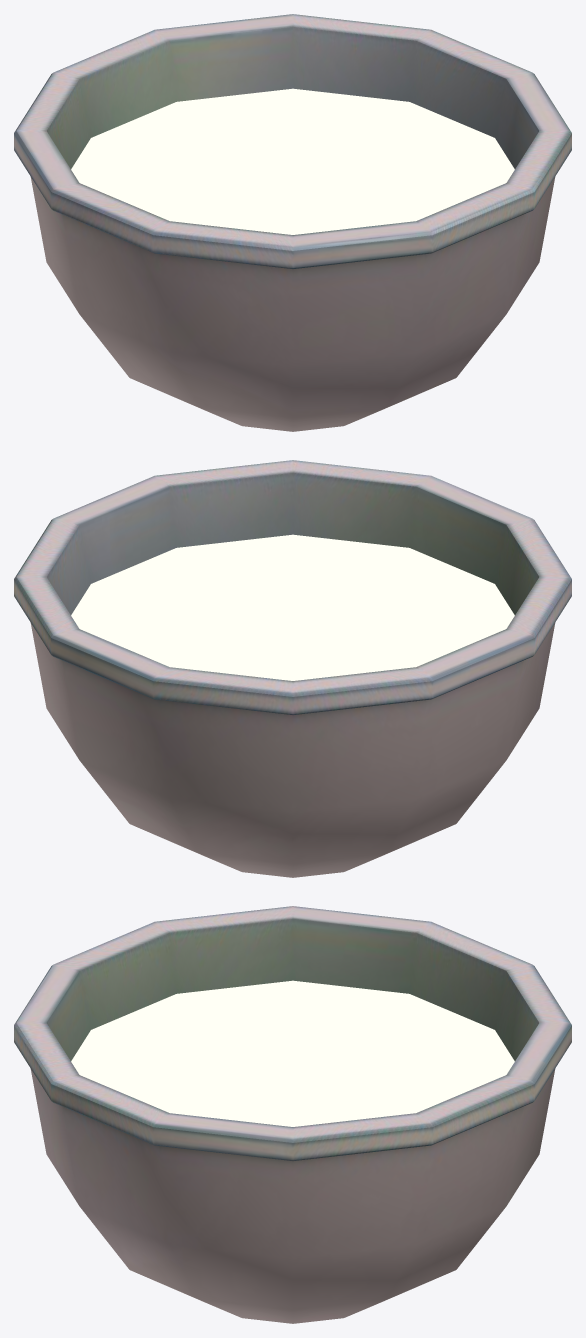
Rendered from mixingBowlFolded.glb.
3 views of the same model, one above another, from view 1: azimuth 30°, elevation 25°; view 2: azimuth 150°, elevation 25°; view 3: azimuth 270°, elevation 25° (orthographic).
Parts seen in each view (by area): view 1: MixingBowl, Cylinder; view 2: MixingBowl, Cylinder; view 3: MixingBowl, Cylinder.
Part boxes in pixels (box(x1,y1,x2,y2)): MixingBowl: box(14, 14, 571, 431); Cylinder: box(71, 88, 514, 234); MixingBowl: box(14, 460, 571, 877); Cylinder: box(71, 534, 514, 680); MixingBowl: box(14, 906, 571, 1323); Cylinder: box(71, 980, 514, 1126).
Bounding box in the file's own units: 0.3931 × 0.2142 × 0.3931.
Materials: 2 (2 with a texture image).
